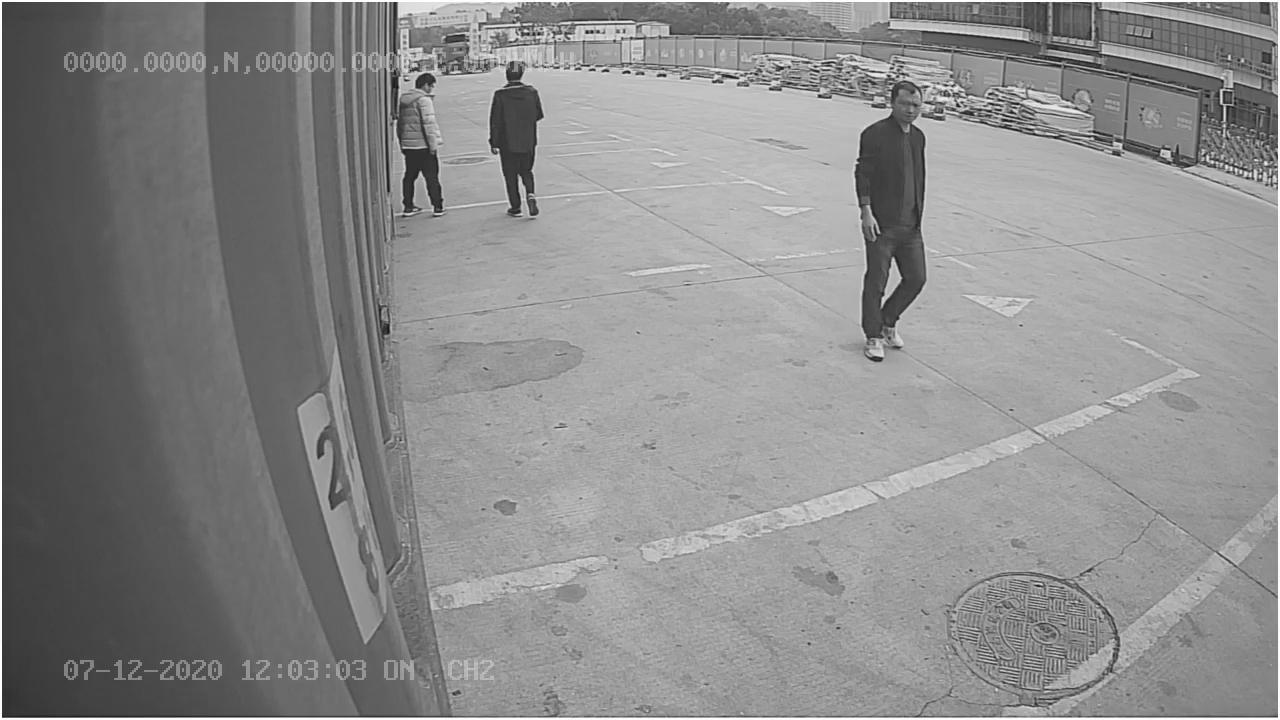person: (852, 70, 939, 362)
